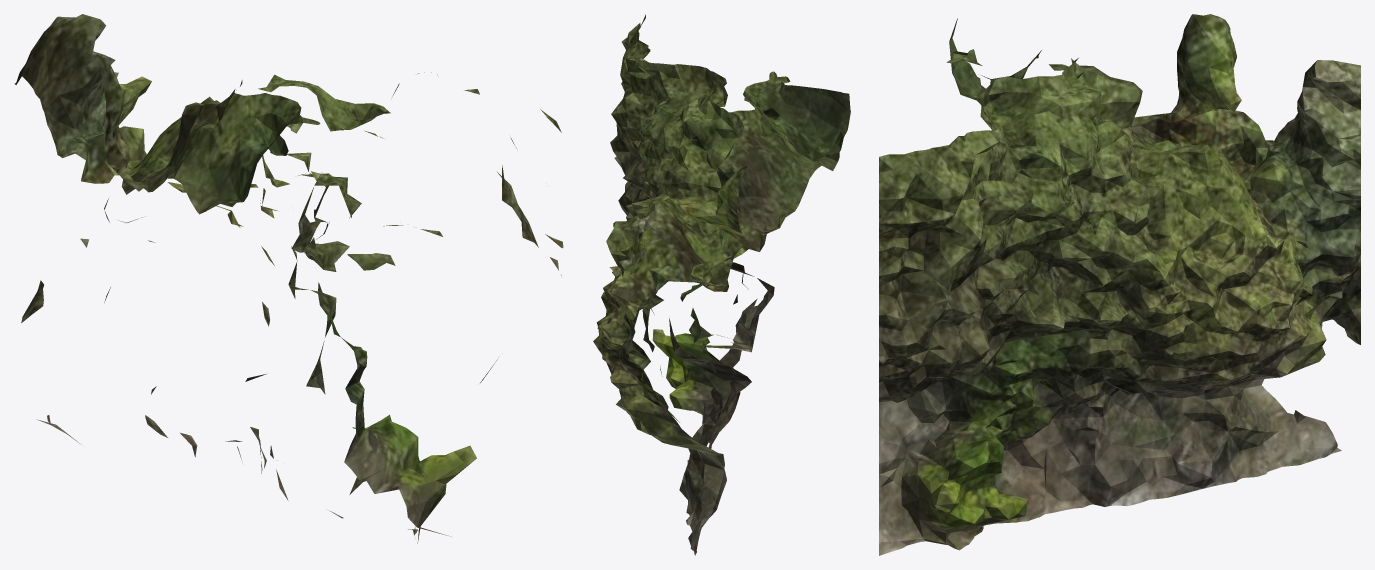
The picture shows the model from 3 angles, left to right: view 1: azimuth 30°, elevation 25°; view 2: azimuth 150°, elevation 25°; view 3: azimuth 270°, elevation 25°; orthographic projection. The views are drawn at different scales.
Size of the model in its own units: 4.5 by 5.9 by 5.9.
Materials: 5 (5 with a texture image).
